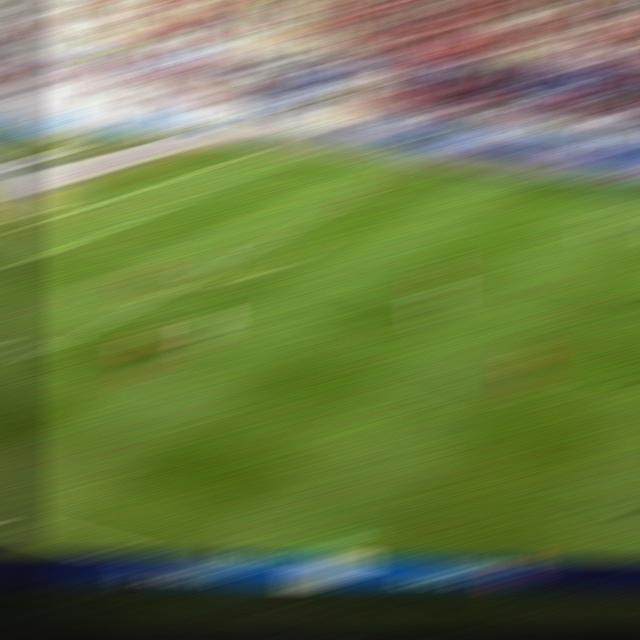bigarea_bottom_inner: (20, 341, 63, 361)
bigarea_top_inner: (332, 193, 368, 202)
bigarea_top_outter: (165, 171, 201, 179)
bottom_arc_area_intersection: (175, 274, 210, 283)
corner: (236, 147, 272, 154)
smallarea_top_inner: (147, 205, 181, 211)
smallarea_top_outter: (89, 195, 126, 203)
top_arc_area_intersection: (267, 224, 305, 235)
